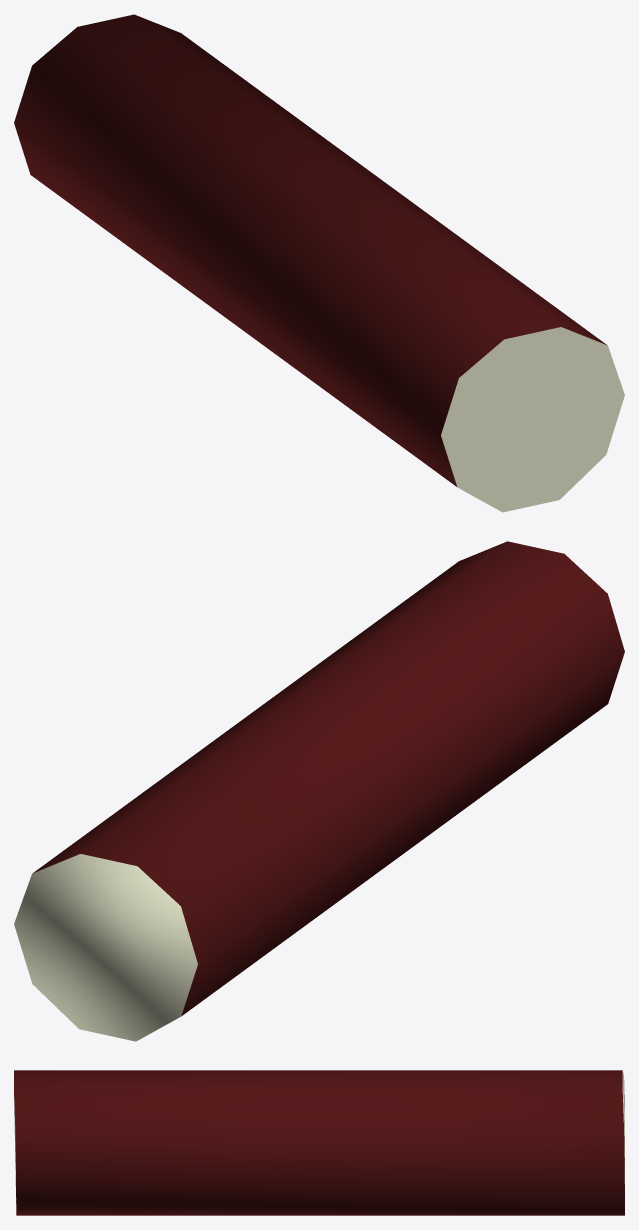
Rendered from log2.fbx.
3 renders of one model, top to bottom at view 1: azimuth 30°, elevation 25°; view 2: azimuth 150°, elevation 25°; view 3: azimuth 270°, elevation 25°, orthographic. The views are drawn at different scales.
Parts seen in each view (by area): view 1: Cube; view 2: Cube; view 3: Cube.
Boxes of the visible parts, x1,y1,x2,y2 form: Cube: (14,14,624,512); Cube: (14,541,624,1041); Cube: (14,1070,624,1215).
Size of the model in its own units: 249 by 227 by 1004.
